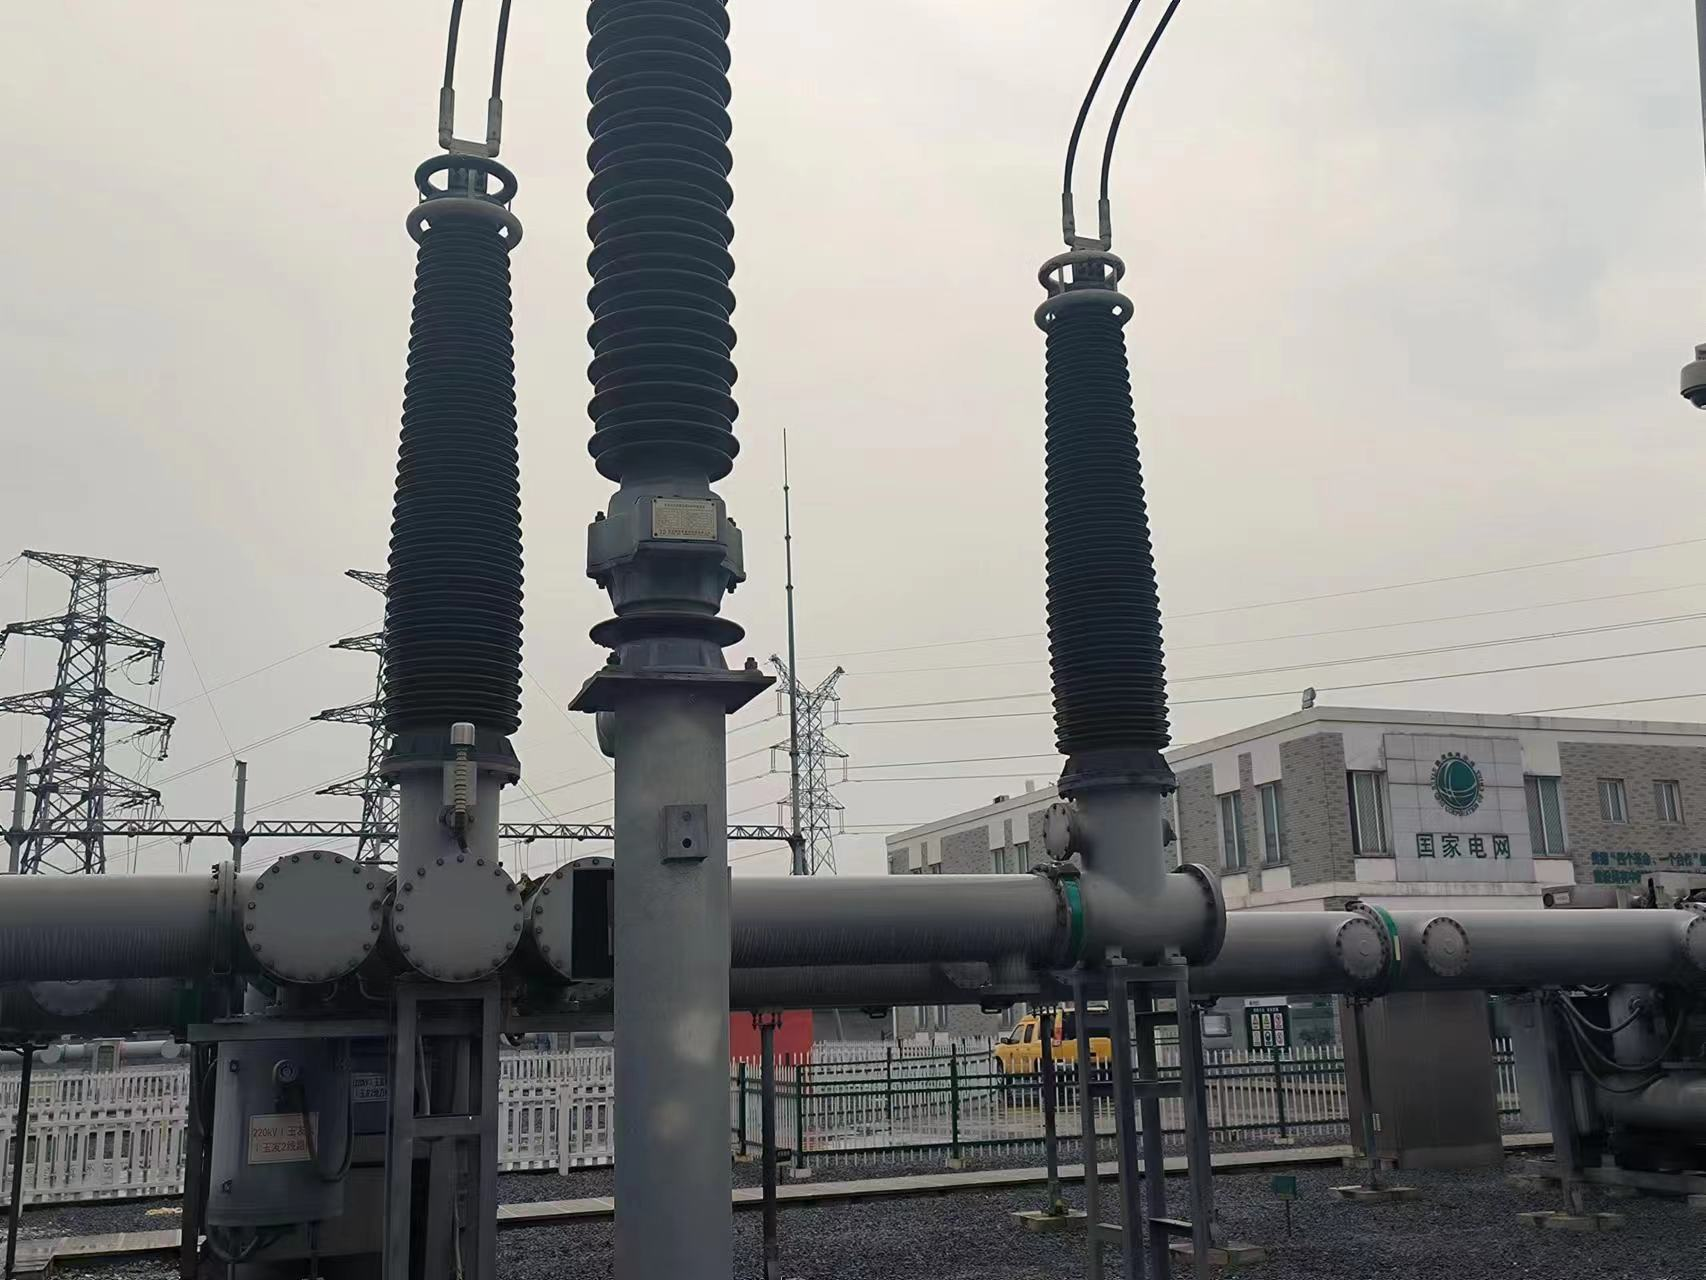Voltage transformer: (376, 147, 539, 734), (1015, 238, 1183, 754)
